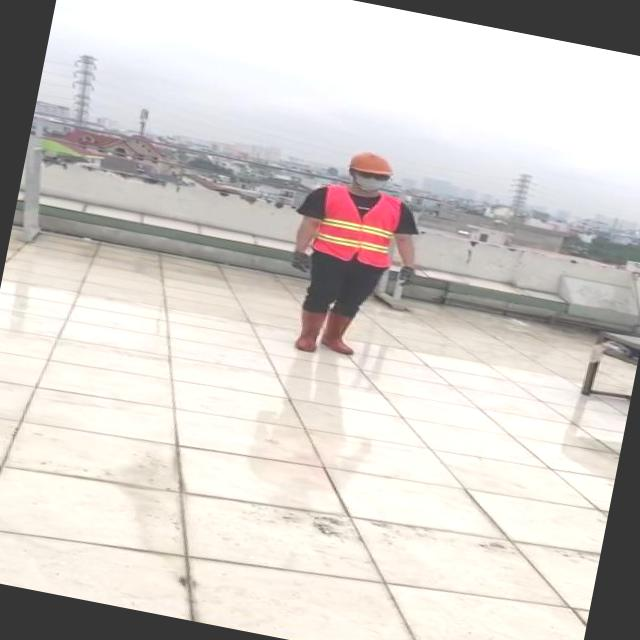boots: (318, 305, 364, 358), (292, 306, 332, 355)
gloves: (388, 254, 428, 292), (288, 243, 326, 282)
helmet: (345, 148, 398, 178)
vest: (308, 183, 405, 269)
